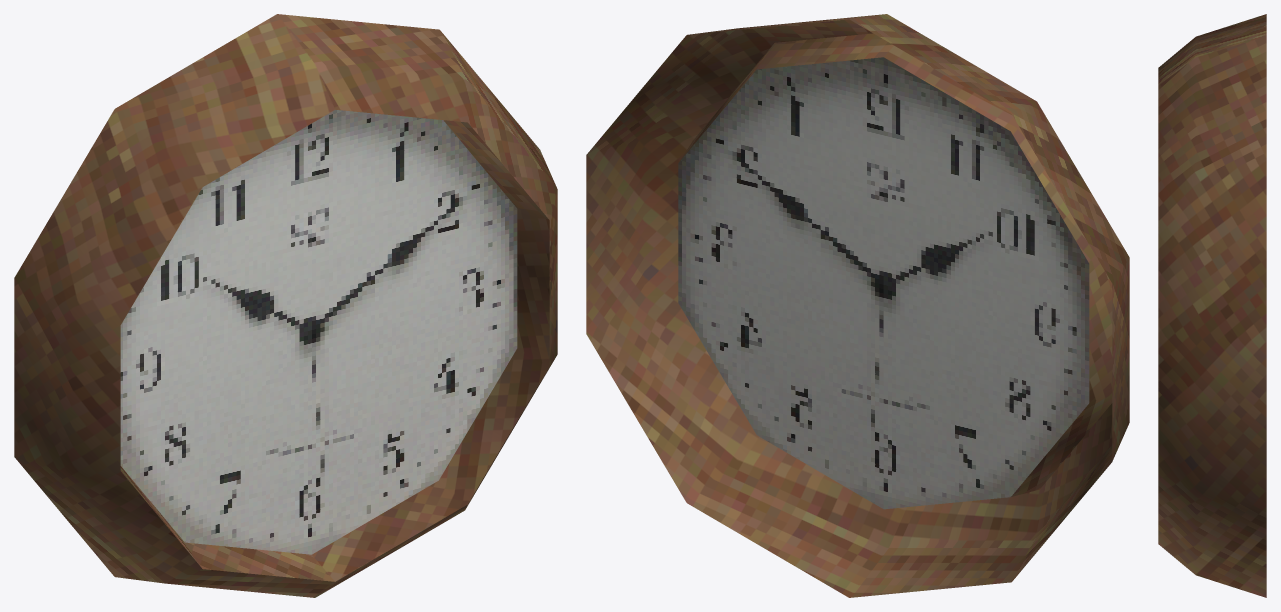
Rendered from Clock.glb.
3 renders of one model, left to right at view 1: azimuth 30°, elevation 25°; view 2: azimuth 150°, elevation 25°; view 3: azimuth 270°, elevation 25°, orthographic. The views are drawn at different scales.
Parts seen in each view (by area): view 1: Clock; view 2: Clock; view 3: Clock.
Boxes of the visible parts, bbox=[...] form: Clock: bbox=[14, 14, 557, 597]; Clock: bbox=[586, 14, 1129, 597]; Clock: bbox=[1158, 14, 1266, 597].
Size of the model in its own units: 4.71 by 4.95 by 0.9003.
Materials: 1 (1 with a texture image).
